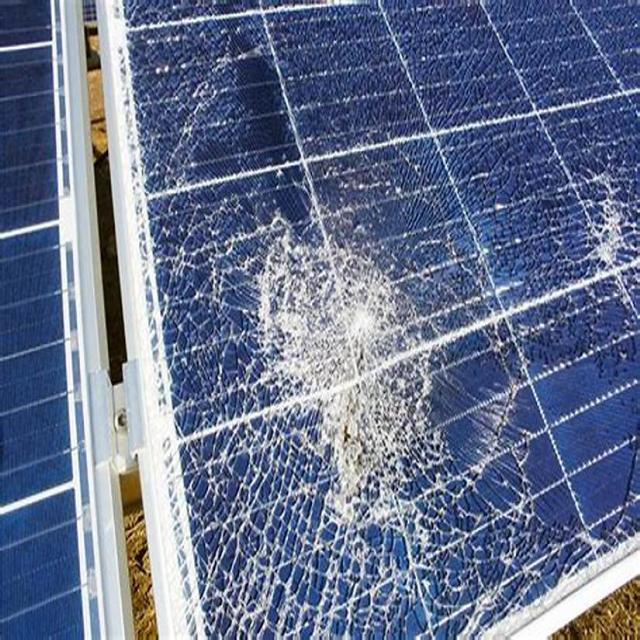physical damage: (147, 121, 589, 636), (129, 0, 421, 201), (536, 131, 640, 372)
